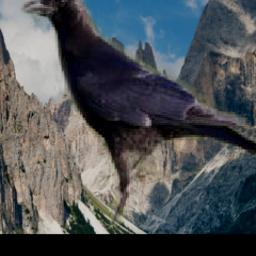Crow: (20, 0, 256, 231)
